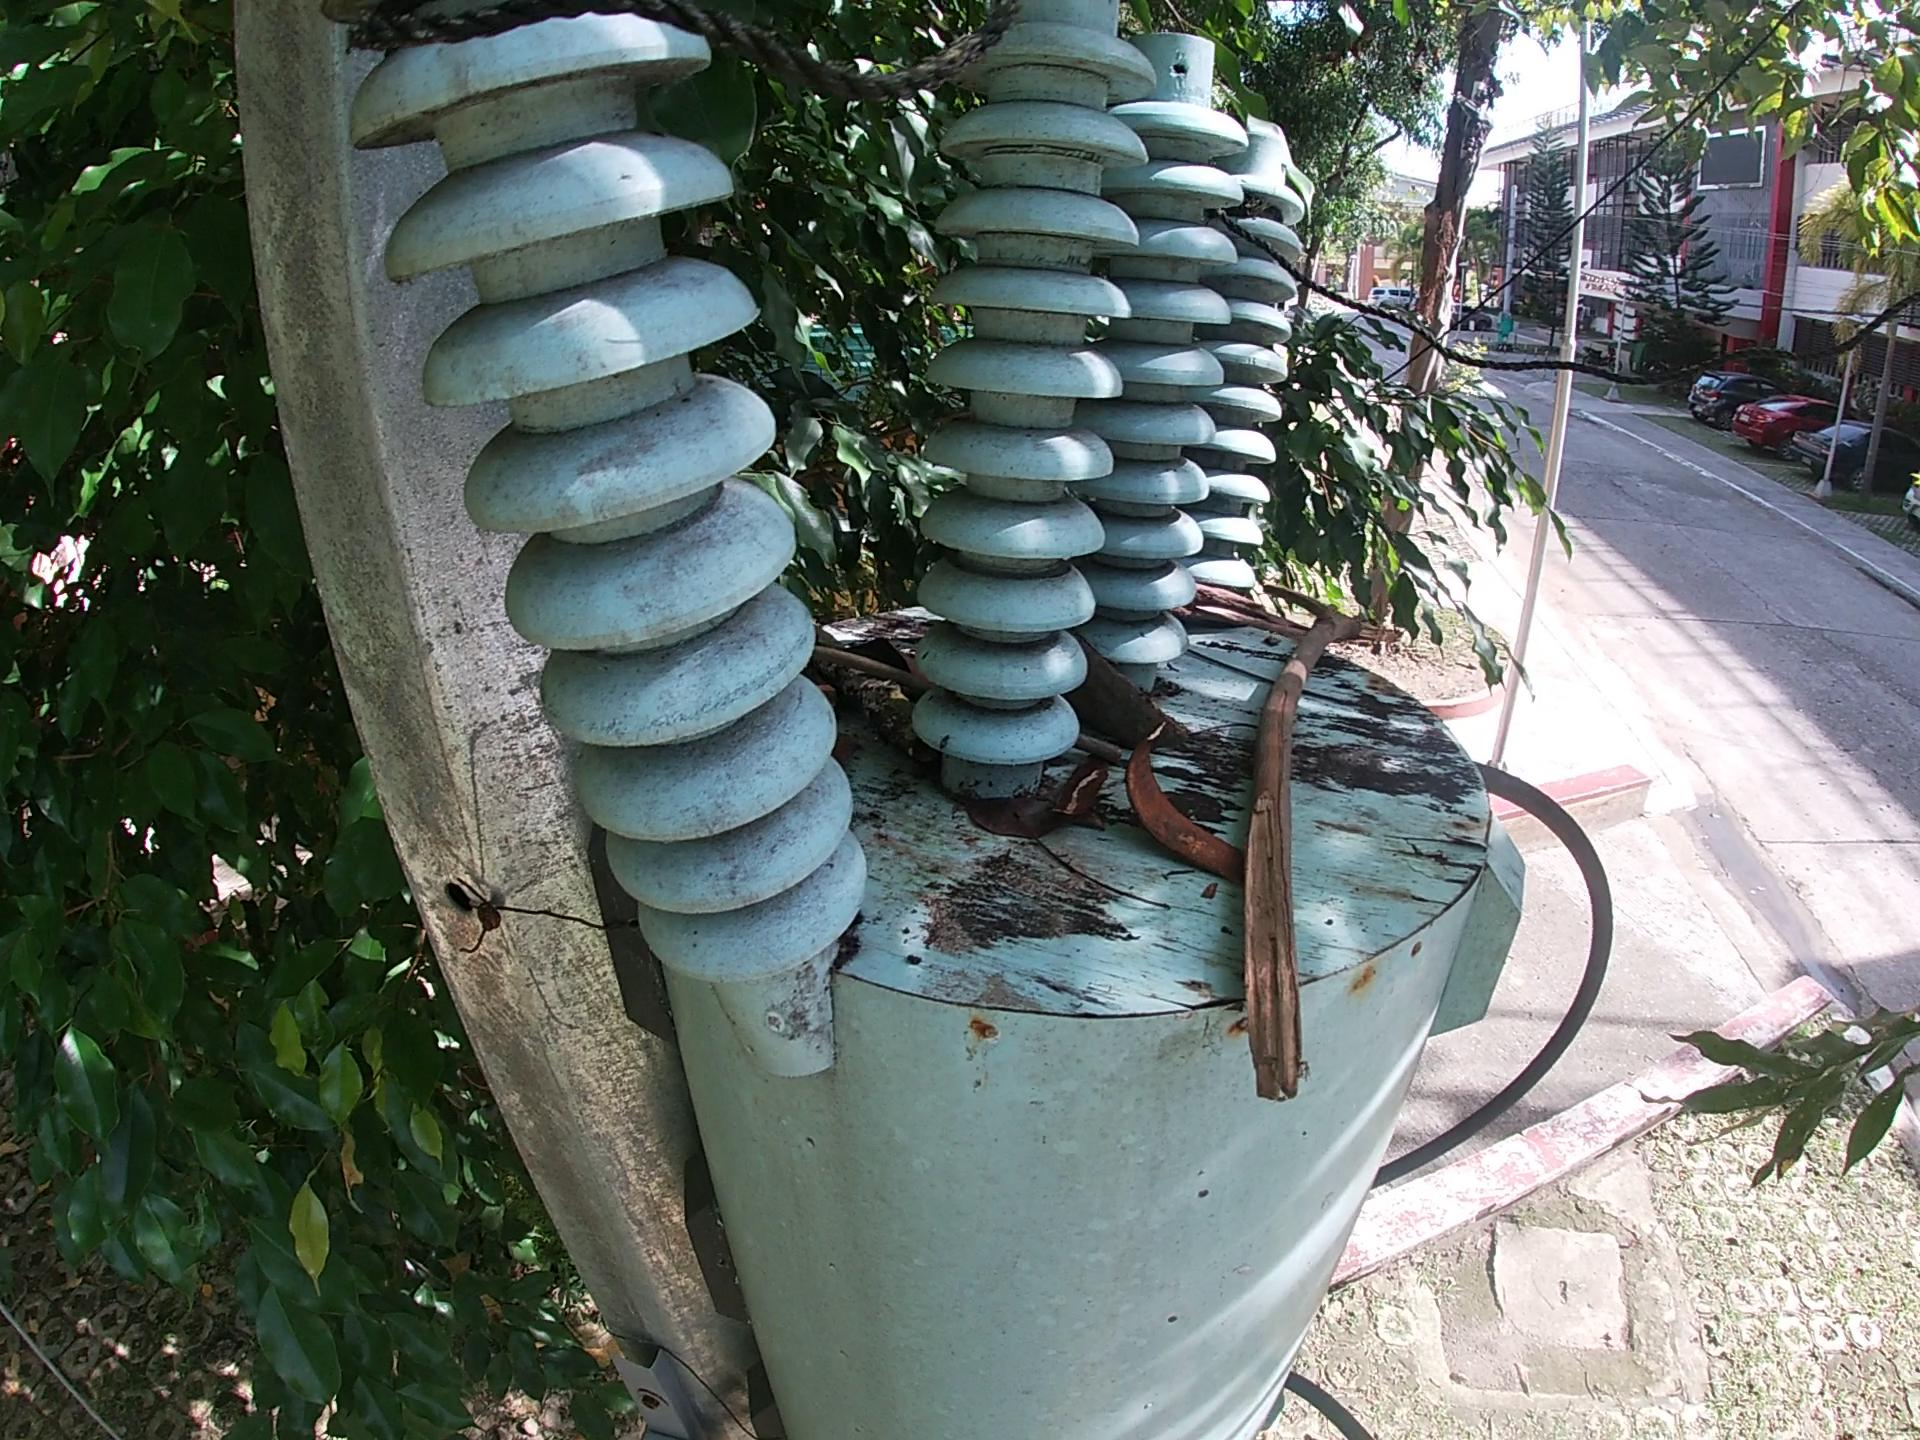leaf: (946, 785, 1027, 839)
mahogany fruit: (1132, 746, 1243, 895), (1076, 646, 1199, 764)
tree branch: (1223, 579, 1423, 1121), (1184, 647, 1386, 725), (822, 661, 933, 764), (1039, 850, 1181, 921), (1188, 590, 1309, 640), (1046, 768, 1107, 827), (810, 647, 915, 678), (1081, 734, 1126, 764)
